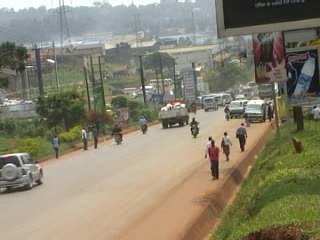Car: (0, 149, 48, 192), (234, 92, 246, 102)
Motorcycle: (109, 123, 125, 144), (187, 114, 200, 139), (135, 116, 149, 134), (221, 103, 231, 123)
